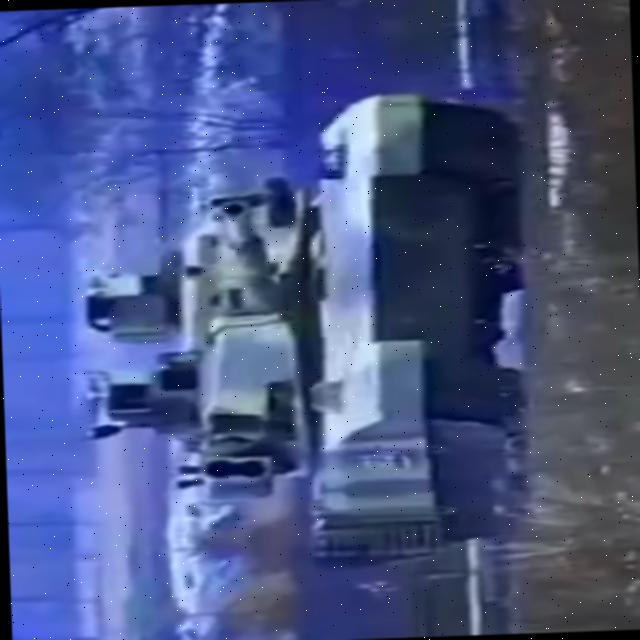north tank: (57, 68, 568, 582)
